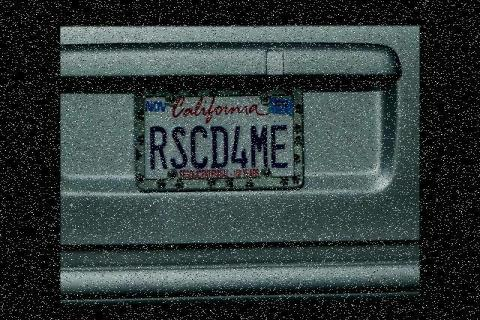LicensePlate: (125, 68, 314, 198)
